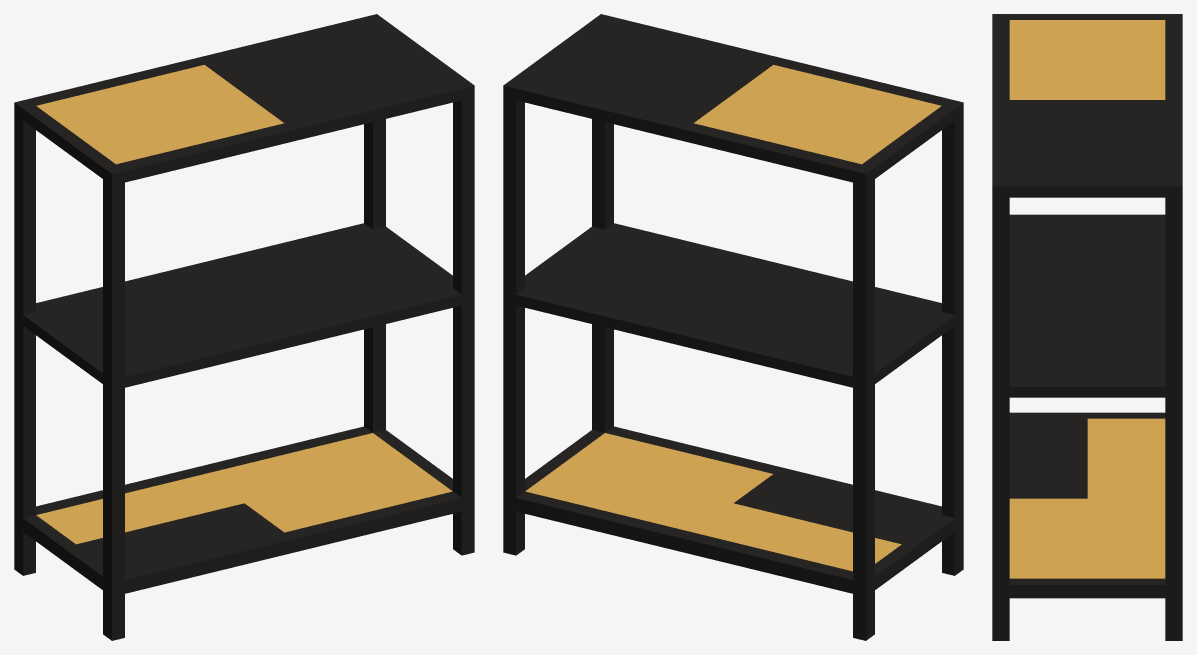
The model's file is Estante01.fbx.
The picture shows the model from 3 angles, left to right: view 1: azimuth 30°, elevation 25°; view 2: azimuth 150°, elevation 25°; view 3: azimuth 270°, elevation 25°; orthographic projection. The views are drawn at different scales.
Visible parts, largest first — view 1: Estante01; view 2: Estante01; view 3: Estante01.
Part boxes in pixels (<box>): Estante01: <box>14,14,474,640</box>; Estante01: <box>503,14,963,640</box>; Estante01: <box>992,14,1182,640</box>.
Size of the model in its own units: 177 by 217 by 82.52.
